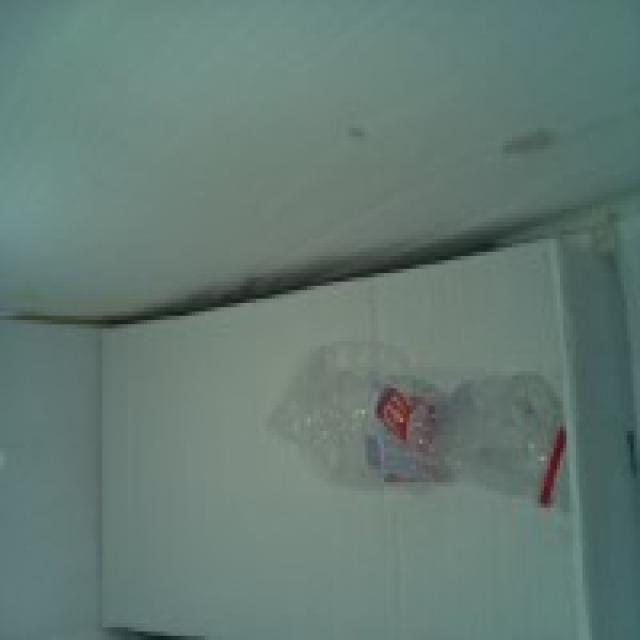Anorganik: (272, 337, 570, 542)
